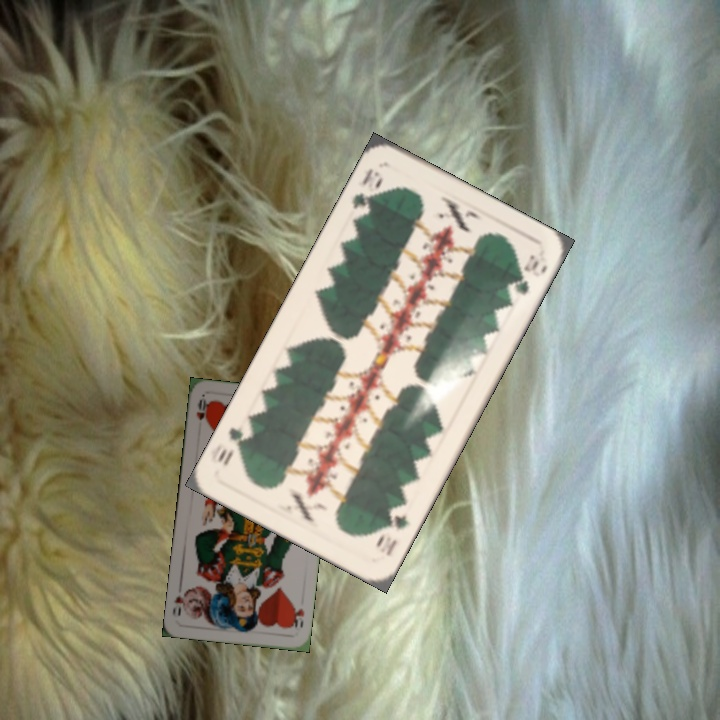G10: (347, 164, 382, 212), (381, 511, 412, 559)
HO: (287, 600, 307, 631), (192, 394, 210, 425)
